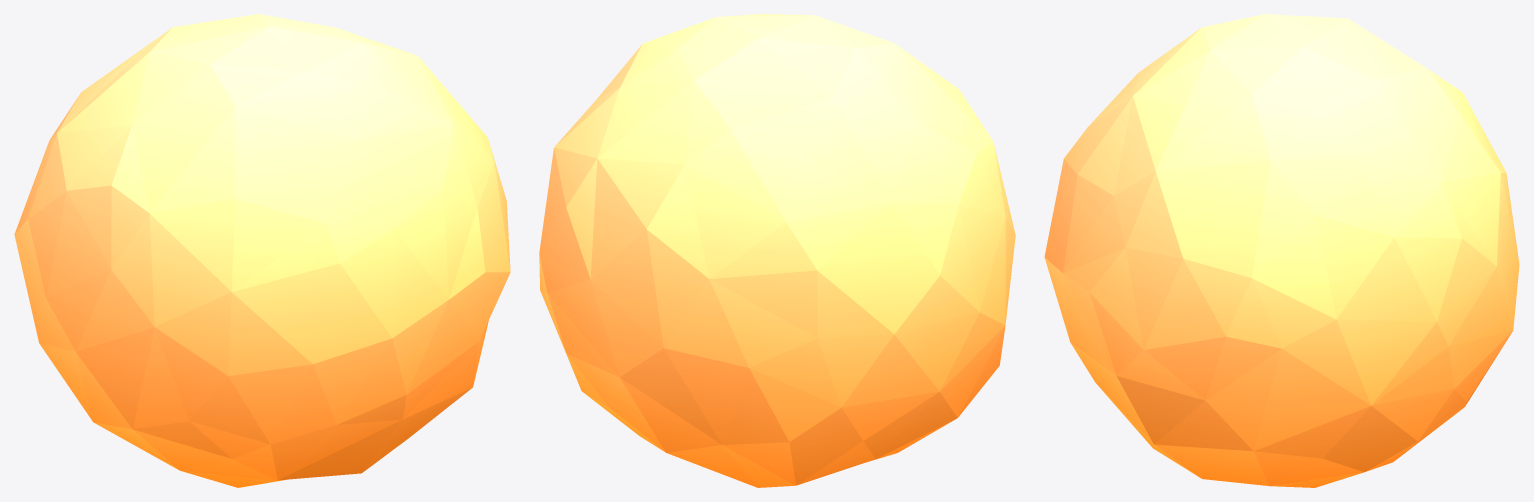
3 views of the same model, side by side, from view 1: azimuth 30°, elevation 25°; view 2: azimuth 150°, elevation 25°; view 3: azimuth 270°, elevation 25° (orthographic).
Visible parts, largest first — view 1: Moon_0; view 2: Moon_0; view 3: Moon_0.
Part boxes in pixels (<box>): Moon_0: <box>14,14,510,487</box>; Moon_0: <box>539,14,1015,487</box>; Moon_0: <box>1044,14,1519,487</box>.
Bounding box in the file's own units: 142 × 137 × 140.
1 material, 1 textured.
